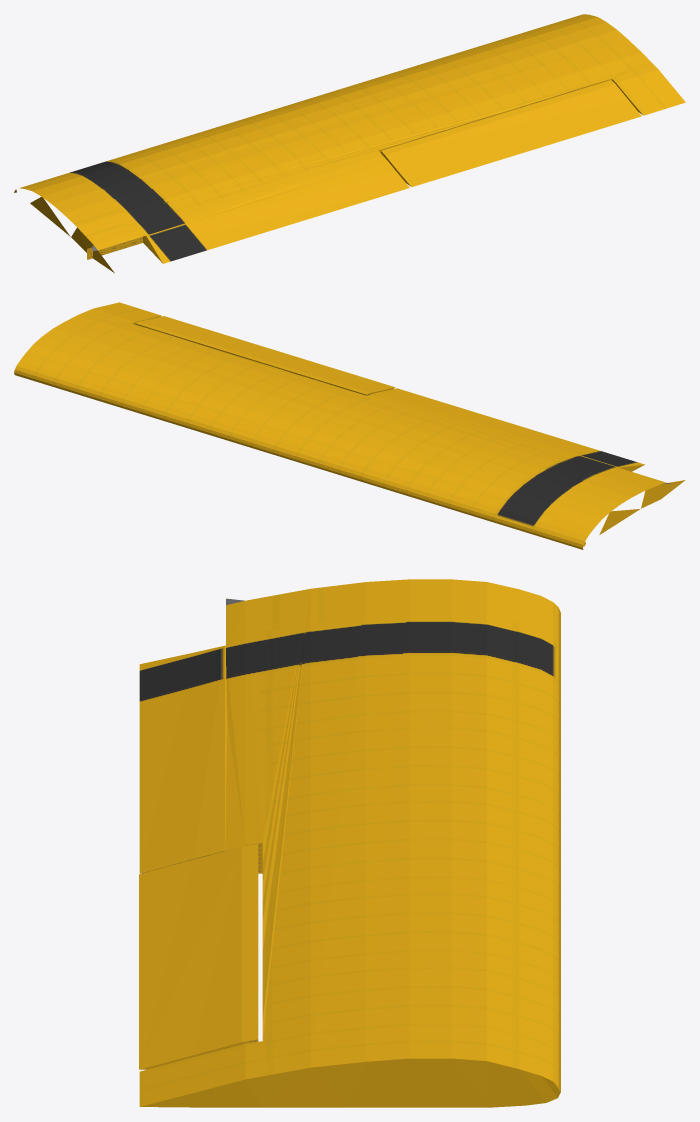
The model's file is ThrushWing_LOD1.gltf.
3 views of the same model, one above another, from view 1: azimuth 30°, elevation 25°; view 2: azimuth 150°, elevation 25°; view 3: azimuth 270°, elevation 25° (orthographic). The views are drawn at different scales.
Visible parts, largest first — view 1: node2; view 2: node2; view 3: node2.
Part boxes in pixels (x1,y1,x2,y2): node2: [14, 14, 685, 273]; node2: [14, 302, 685, 549]; node2: [139, 579, 560, 1107].
Size of the model in its own units: 7.31 by 0.74 by 2.33.
